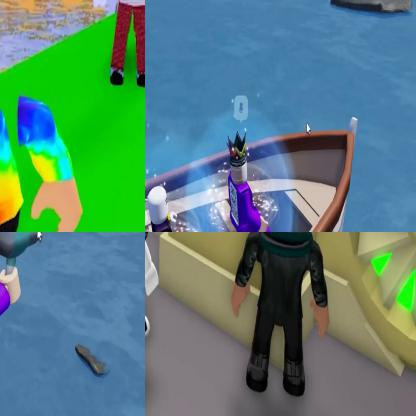Roblox-Avatar: (231, 233, 331, 398), (227, 131, 272, 232), (94, 1, 145, 90), (148, 186, 199, 232)
